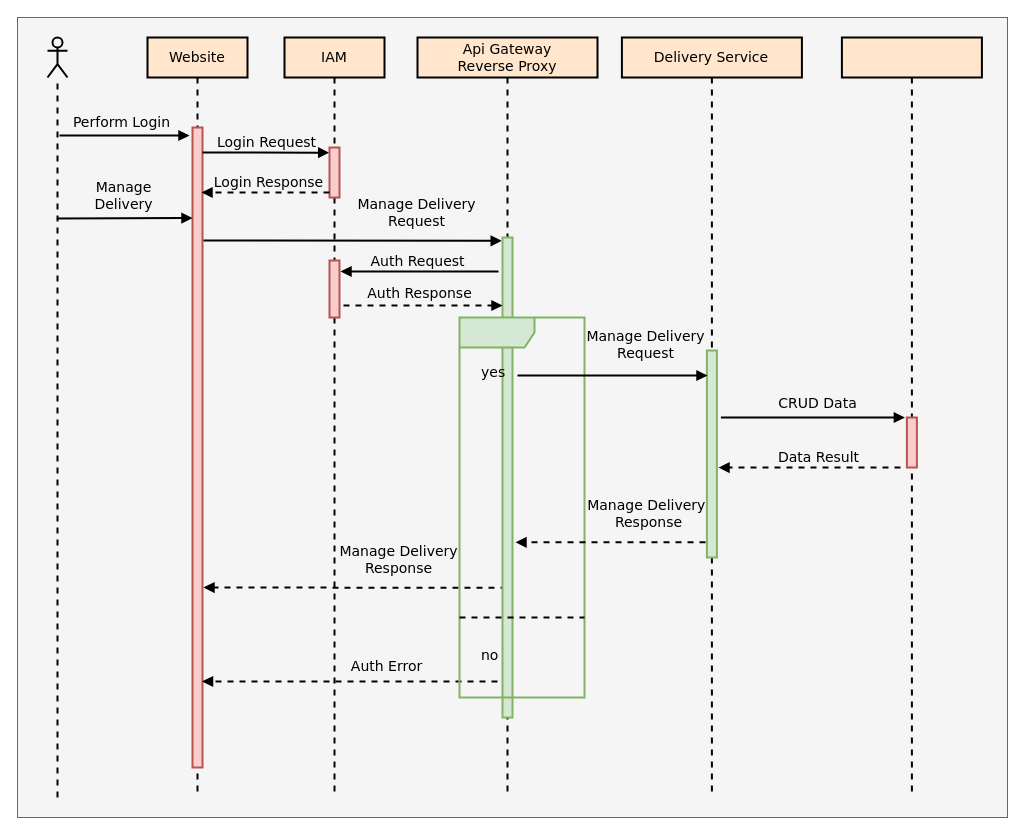
The diagram is 1025 pixels wide and 835 high, and some of its shapes have lost their labels. The box of each missing label's shape, as (x1, y1, x2, y2) in pixels:
Auth: (458, 316, 585, 698)
Delivery Database: (840, 36, 982, 798)
